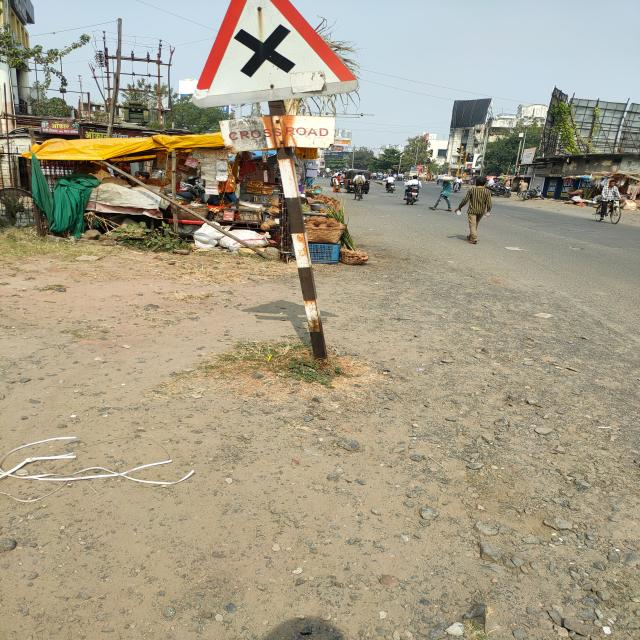cross_road: (190, 1, 360, 112)
